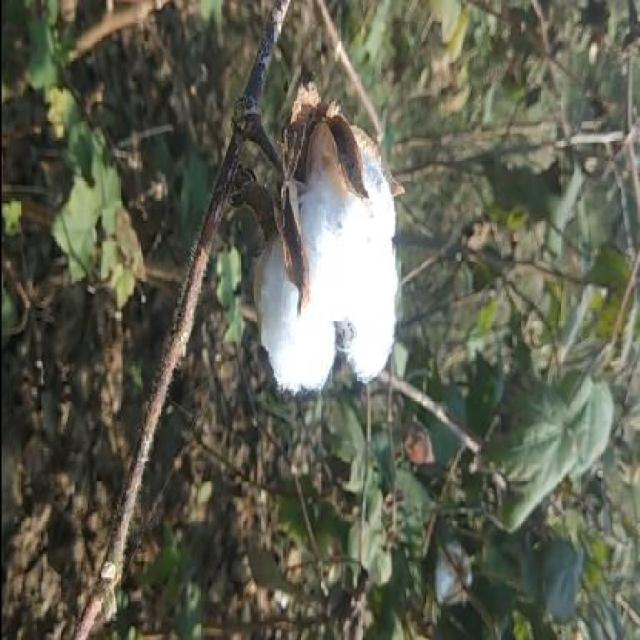cotton_ready: (196, 108, 402, 417)
